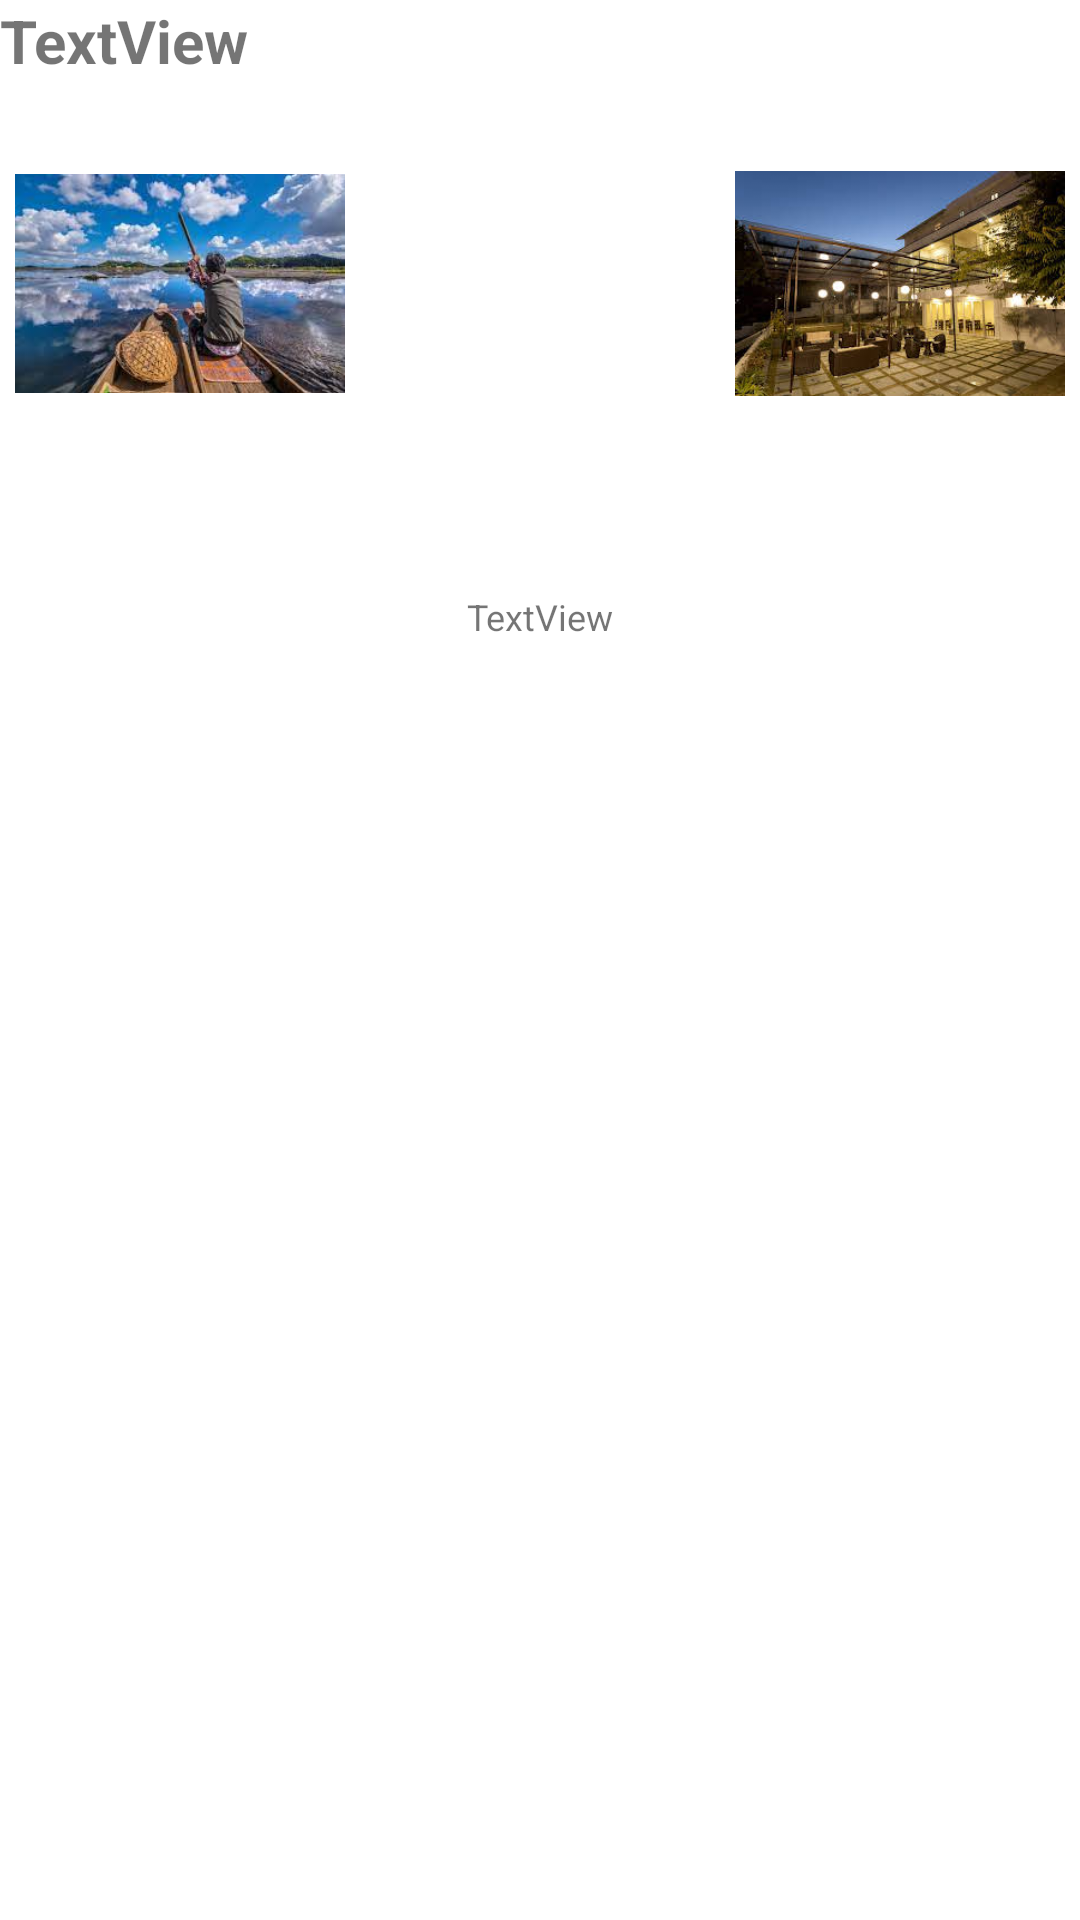

Where to tap for icons on this 1080px×1920px app screen, as (x,y):
loft: (900,283)
